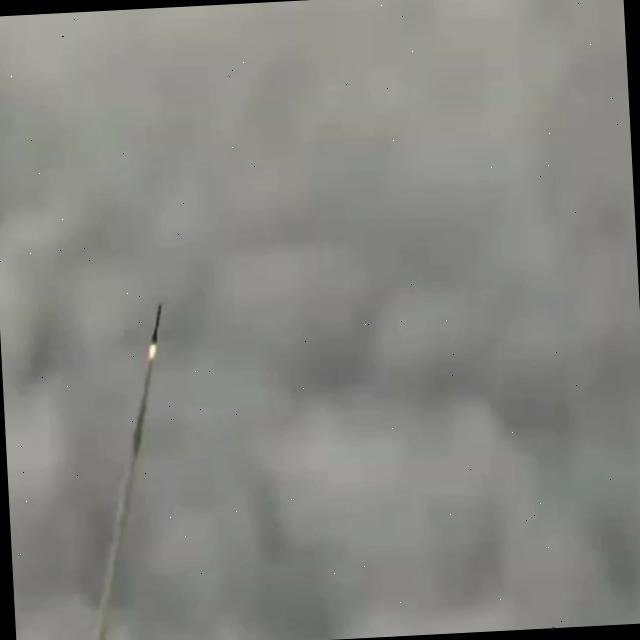smoke_trail_with_rocket: (97, 303, 164, 640)
